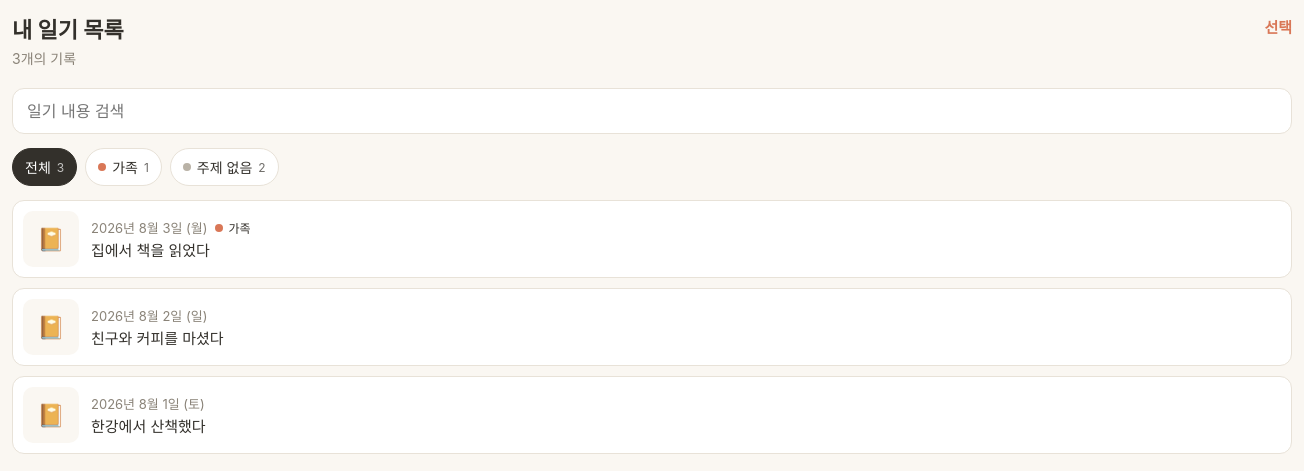
Test: ListPage 주제 › 주제 걸러 보기와 검색을 함께 쓸 수 있다
This screenshot has width=1304, height=471.
Expected: the text "3개의 기록" is shown, [12,50,76,67]
Click the button "주제 없음 2": coordinates (224, 167) [170,148,279,186]
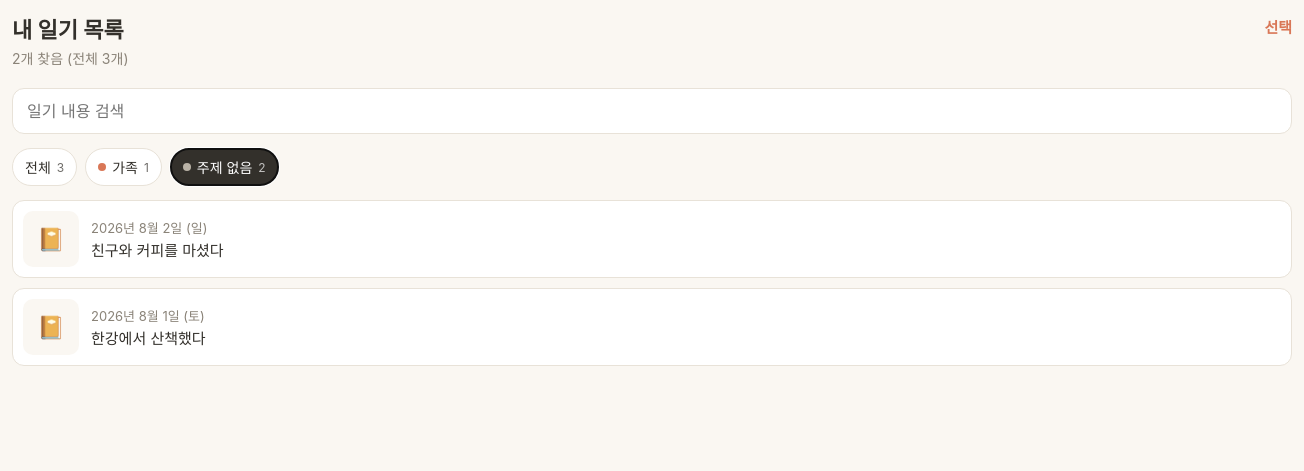
In the search field labelled "일기 내용 검색": coordinates (652, 111) [12,88,1292,134], type "커피"
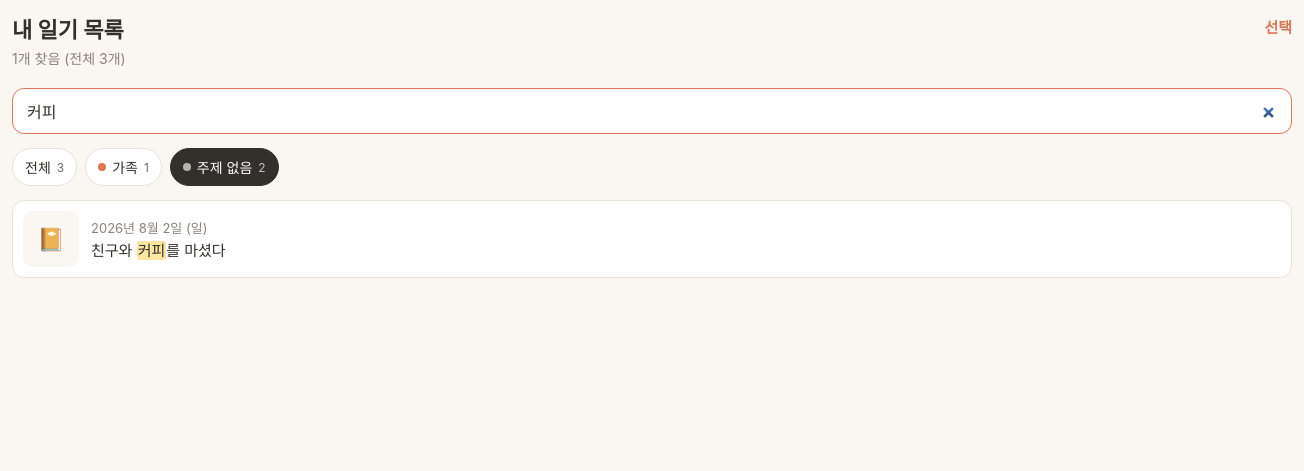
Expected: the text "친구와 커피를 마셨다" is shown, [91,241,226,260]
Result: the text "1개 찾음 (전체 3개)" is shown at [12,48,126,68]
